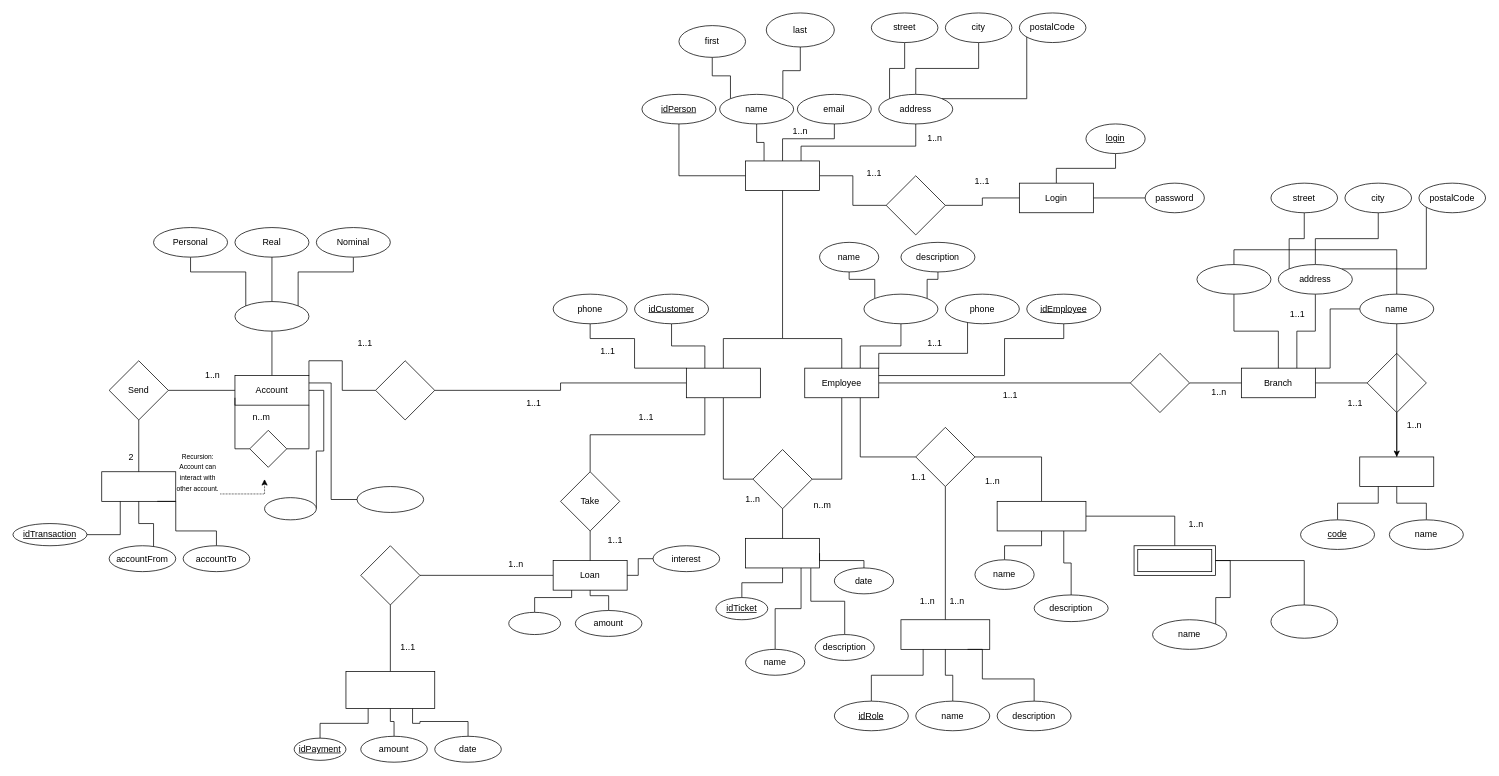
Image size: 1499x776. Some labels were removed from this diagram. Each missing label, with the box of its shape:
Bank: (1359, 456, 1434, 487)
Credentials: (885, 175, 945, 235)
currency: (356, 486, 424, 512)
Customer: (686, 367, 760, 398)
Entitlement: (915, 427, 975, 487)
Have: (375, 360, 435, 420)
idAccount: (264, 497, 316, 520)
idBranch: (1196, 264, 1271, 294)
idLoan: (508, 612, 561, 635)
Interact: (249, 430, 287, 467)
Module: (996, 501, 1086, 531)
Of: (1366, 353, 1426, 413)
Pay: (360, 545, 420, 605)
Payment: (345, 671, 435, 709)
Permission: (1133, 545, 1215, 575)
Person: (745, 160, 820, 191)
Role: (900, 619, 990, 649)
Support: (752, 449, 812, 509)
Ticket: (745, 538, 820, 568)
Transaction: (101, 471, 176, 501)
Type: (234, 301, 309, 331)
Work at: (1130, 353, 1190, 413)
workPosition: (863, 293, 938, 324)
